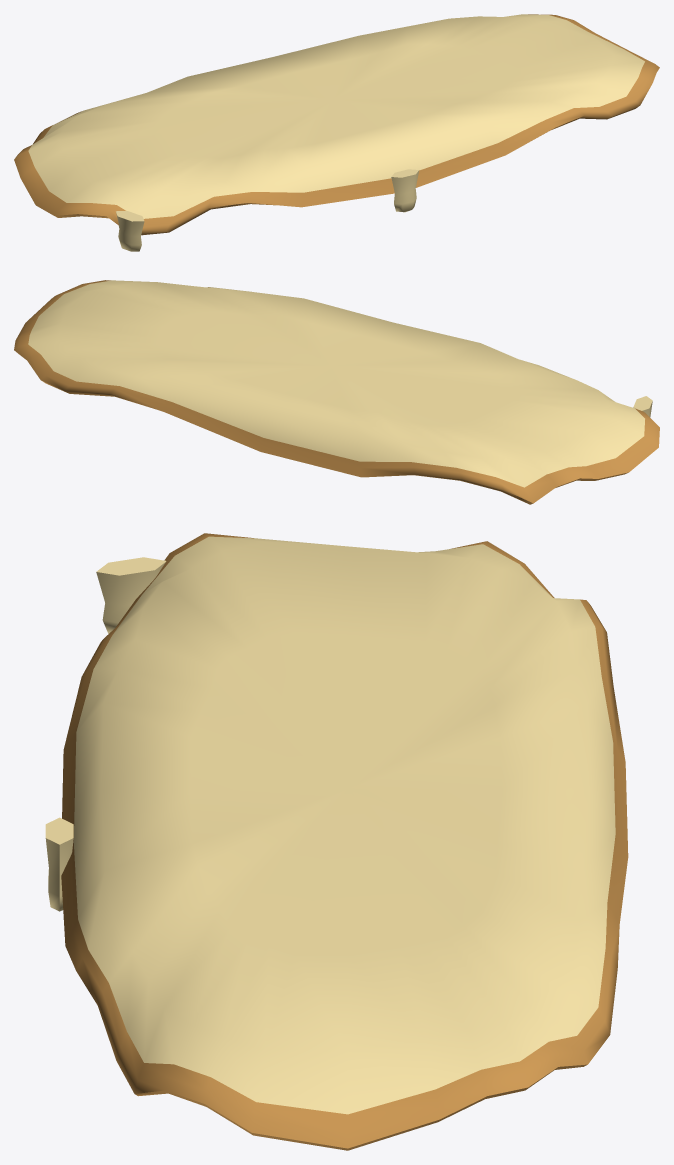
The model's file is Food_Provolone_Melted.fbx.
3 renders of one model, top to bottom at view 1: azimuth 30°, elevation 25°; view 2: azimuth 150°, elevation 25°; view 3: azimuth 270°, elevation 25°, orthographic. The views are drawn at different scales.
Parts seen in each view (by area): view 1: Cheese, Rind; view 2: Cheese, Rind; view 3: Cheese, Rind.
Boxes of the visible parts, left/top/right/bottom form: Cheese: left=28, top=14, right=644, bottom=251; Rind: left=14, top=14, right=659, bottom=235; Cheese: left=28, top=280, right=652, bottom=487; Rind: left=14, top=280, right=659, bottom=504; Cheese: left=45, top=536, right=615, bottom=1114; Rind: left=61, top=533, right=628, bottom=1150.
Size of the model in its own units: 229 by 22.39 by 95.13.
